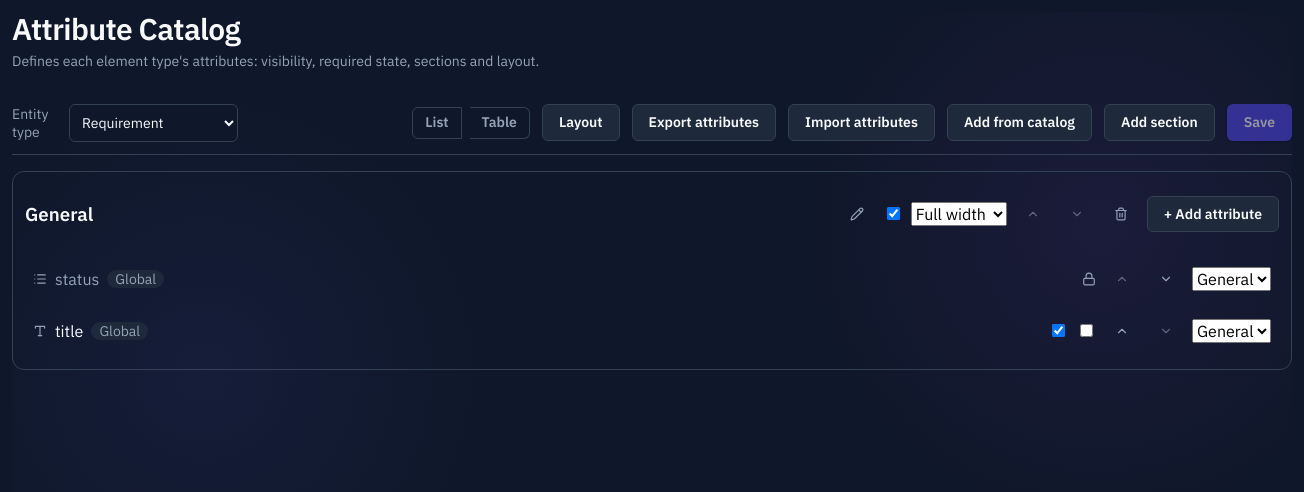
Test: AttributeEditorPage › renames a section from its header
Click the button with test id "attribute-section-general-rename": {"x": 857, "y": 214} top-left (839, 196), bottom-right (875, 232)
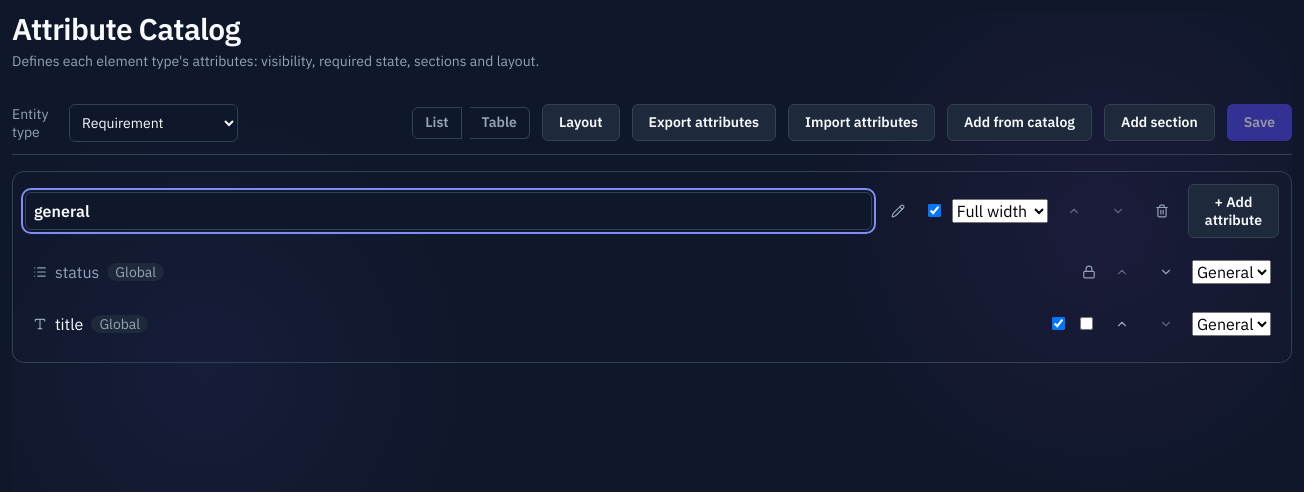
Replace the text in the field with test id "attribute-section-general-name" with "basics": {"x": 448, "y": 211} top-left (25, 192), bottom-right (872, 230)
Then press Enter
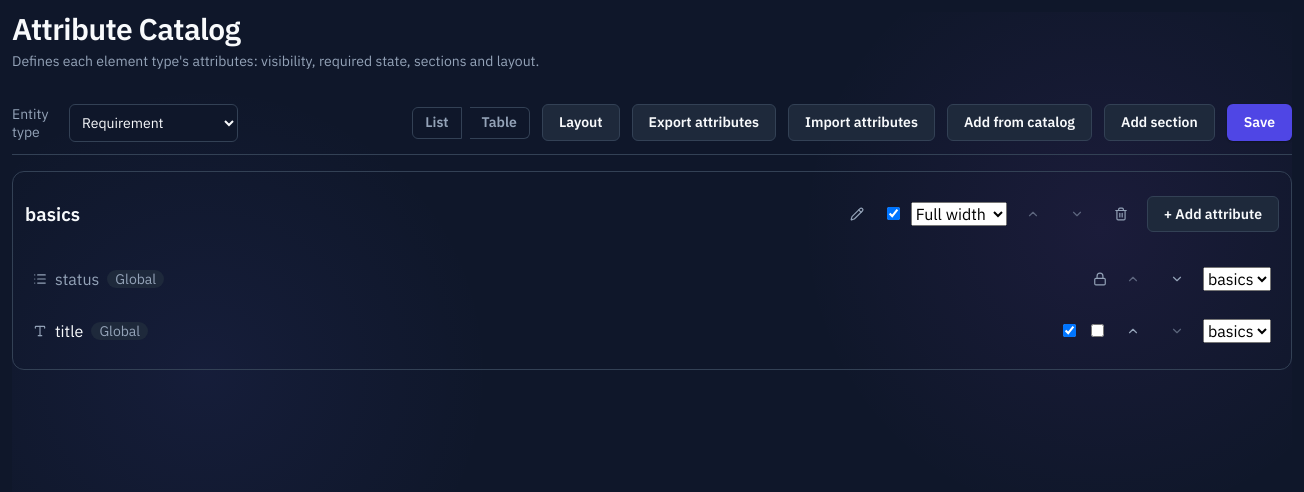
Result: the element with test id "attribute-section-basics" is shown at top-left (12, 170), bottom-right (1292, 370)
Result: the element with test id "attribute-section-general" is gone
